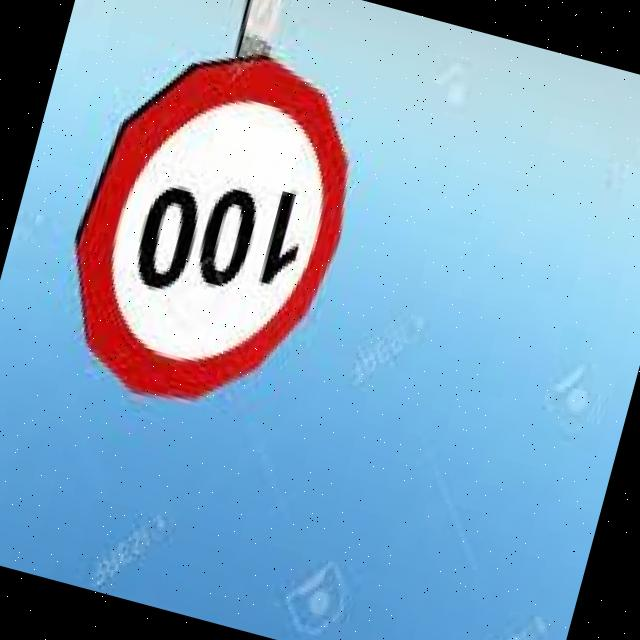speed_limit_100: (41, 17, 390, 429)
